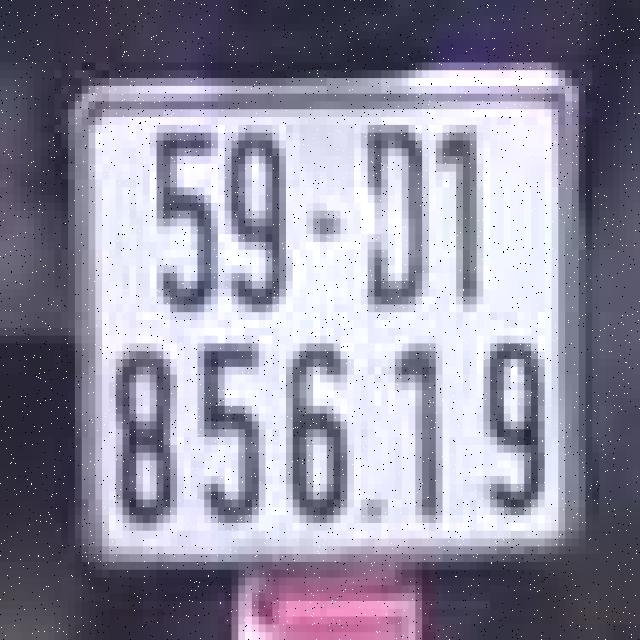1: (381, 336, 463, 530), (429, 113, 497, 324)
5: (140, 109, 221, 336), (198, 332, 266, 527)
6: (276, 324, 371, 527)
8: (106, 332, 187, 534)
9: (221, 117, 303, 312), (476, 328, 552, 531)
D: (340, 94, 436, 344)
